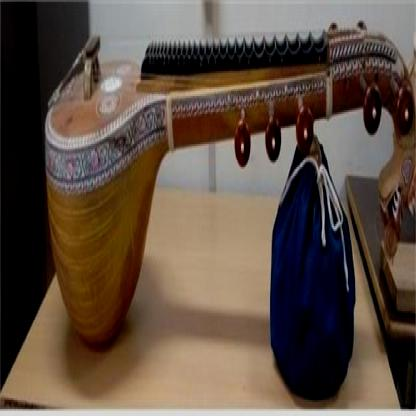Veena: (14, 15, 416, 178)
